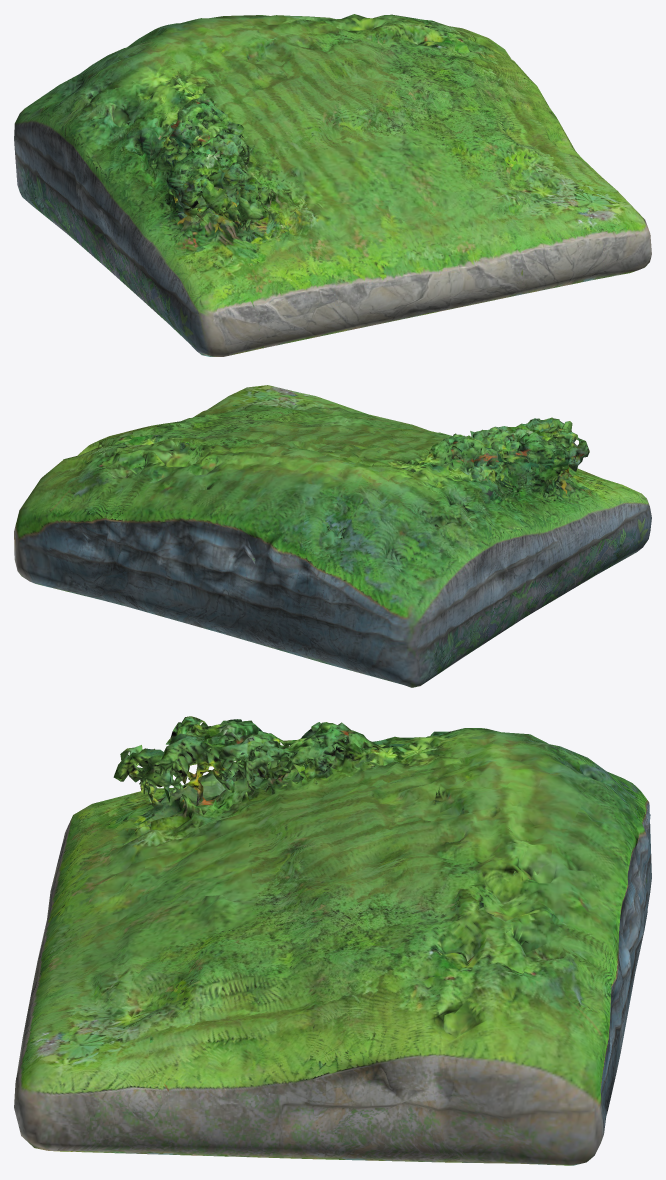
The model's file is jungle-trees.glb.
The picture shows the model from 3 angles, top to bottom: view 1: azimuth 30°, elevation 25°; view 2: azimuth 150°, elevation 25°; view 3: azimuth 270°, elevation 25°; orthographic projection. The views are drawn at different scales.
Size of the model in its own units: 1.2 by 0.4555 by 1.08.
1 material, 1 textured.
